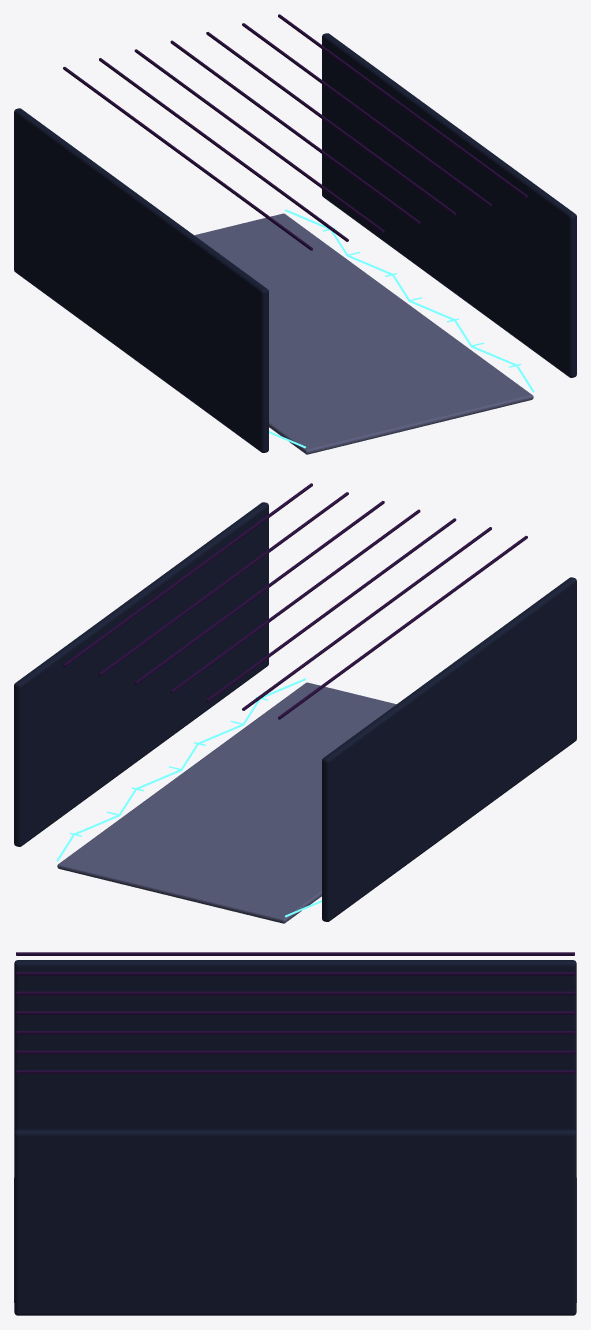
File: neon_octagon_runway_shell.glb
3 views of the same model, one above another, from view 1: azimuth 30°, elevation 25°; view 2: azimuth 150°, elevation 25°; view 3: azimuth 270°, elevation 25° (orthographic). The views are drawn at different scales.
Visible parts, largest first — view 1: Left Recessed Wall, Right Recessed Wall, Reflective Graphite Runway, Ceiling Rib 03, Ceiling Rib 04, Ceiling Rib 05, Ceiling Rib 07, Ceiling Rib 01, Ceiling Rib 02, Ceiling Rib 06, Right Cyan Zigzag Runway Edge; view 2: Left Recessed Wall, Right Recessed Wall, Reflective Graphite Runway, Ceiling Rib 03, Ceiling Rib 04, Ceiling Rib 05, Ceiling Rib 07, Ceiling Rib 01, Ceiling Rib 02, Ceiling Rib 06, Right Cyan Zigzag Runway Edge; view 3: Right Recessed Wall, Left Recessed Wall, Ceiling Rib 03, Ceiling Rib 06, Ceiling Rib 01, Ceiling Rib 02, Ceiling Rib 04, Ceiling Rib 05, Ceiling Rib 07.
Boxes of the visible parts, bbox=[...] form: Left Recessed Wall: bbox=[14, 108, 268, 452]; Right Recessed Wall: bbox=[322, 33, 576, 377]; Reflective Graphite Runway: bbox=[194, 213, 533, 454]; Ceiling Rib 03: bbox=[134, 49, 384, 233]; Ceiling Rib 04: bbox=[170, 40, 420, 224]; Ceiling Rib 05: bbox=[206, 32, 456, 215]; Ceiling Rib 07: bbox=[278, 14, 527, 198]; Ceiling Rib 01: bbox=[63, 67, 312, 250]; Ceiling Rib 02: bbox=[99, 58, 348, 241]; Ceiling Rib 06: bbox=[242, 23, 491, 206]; Right Cyan Zigzag Runway Edge: bbox=[285, 209, 534, 392]; Left Recessed Wall: bbox=[322, 577, 576, 921]; Right Recessed Wall: bbox=[14, 502, 268, 846]; Reflective Graphite Runway: bbox=[57, 682, 396, 923]; Ceiling Rib 03: bbox=[206, 518, 456, 702]; Ceiling Rib 04: bbox=[170, 509, 420, 693]; Ceiling Rib 05: bbox=[134, 501, 384, 684]; Ceiling Rib 07: bbox=[63, 483, 312, 667]; Ceiling Rib 01: bbox=[278, 536, 527, 719]; Ceiling Rib 02: bbox=[242, 527, 491, 710]; Ceiling Rib 06: bbox=[99, 492, 348, 675]; Right Cyan Zigzag Runway Edge: bbox=[56, 678, 305, 861]; Right Recessed Wall: bbox=[14, 1129, 576, 1315]; Left Recessed Wall: bbox=[14, 960, 576, 1131]; Ceiling Rib 03: bbox=[16, 991, 574, 995]; Ceiling Rib 06: bbox=[16, 1050, 574, 1054]; Ceiling Rib 01: bbox=[16, 952, 574, 955]; Ceiling Rib 02: bbox=[16, 972, 574, 975]; Ceiling Rib 04: bbox=[16, 1011, 574, 1014]; Ceiling Rib 05: bbox=[16, 1031, 574, 1034]; Ceiling Rib 07: bbox=[16, 1070, 574, 1073].
Bounding box in the file's own units: 13.24 × 8.22 × 18.12.
